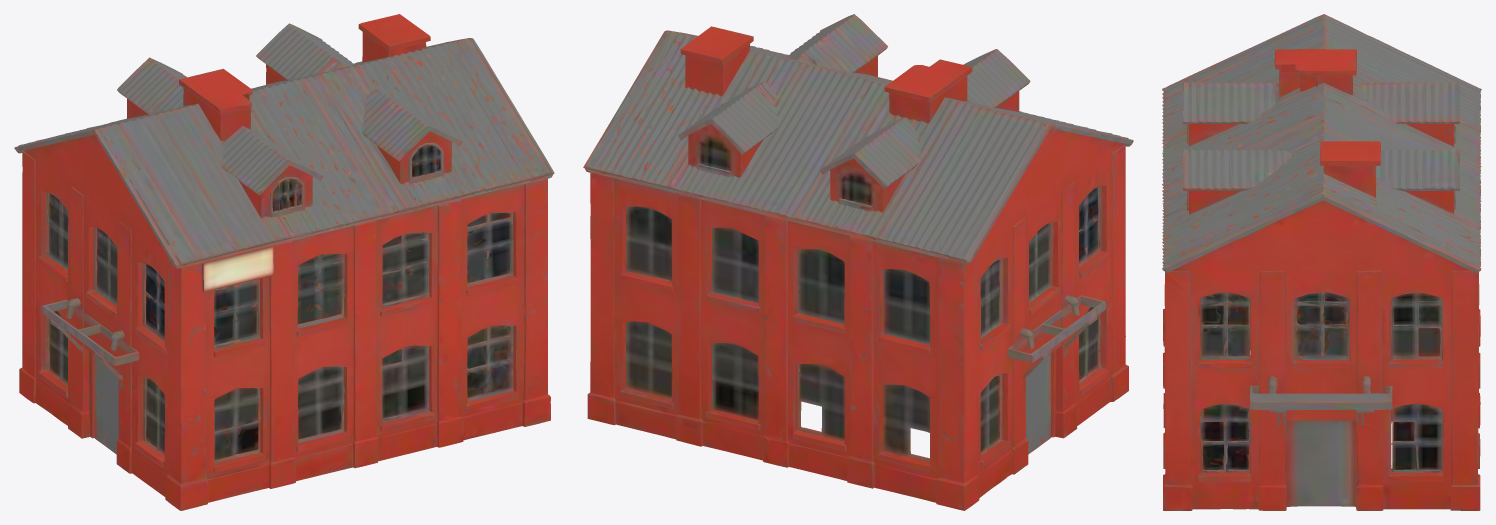
File: block-brick.glb
The picture shows the model from 3 angles, left to right: view 1: azimuth 30°, elevation 25°; view 2: azimuth 150°, elevation 25°; view 3: azimuth 270°, elevation 25°; orthographic projection. The views are drawn at different scales.
Visible parts, largest first — view 1: geometry_0; view 2: geometry_0; view 3: geometry_0.
Part boxes in pixels (box(x1,y1,x2,y2)): geometry_0: box(14, 14, 554, 510); geometry_0: box(583, 14, 1133, 510); geometry_0: box(1162, 14, 1481, 510).
Size of the model in its own units: 1 by 0.7612 by 0.664.
1 material, 1 textured.
